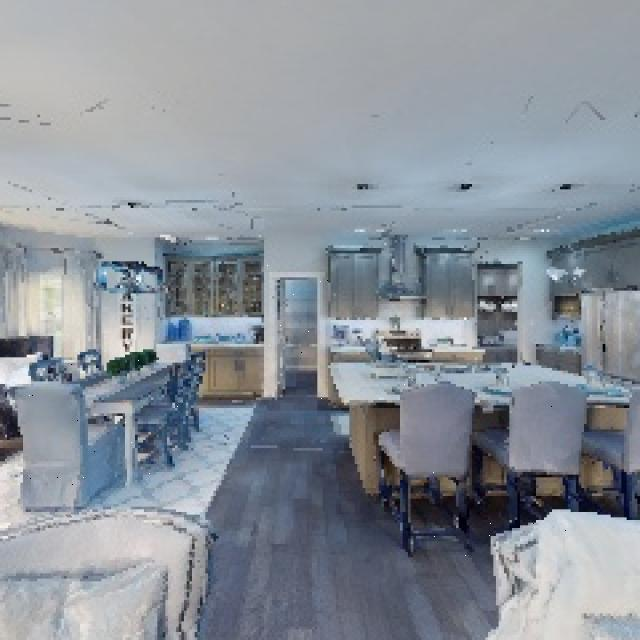chair: (476, 375, 607, 542), (375, 382, 481, 557), (5, 371, 130, 516), (126, 340, 202, 488), (597, 371, 640, 544)
door-frame: (264, 264, 330, 408)
table: (325, 356, 635, 510), (39, 348, 211, 487)
